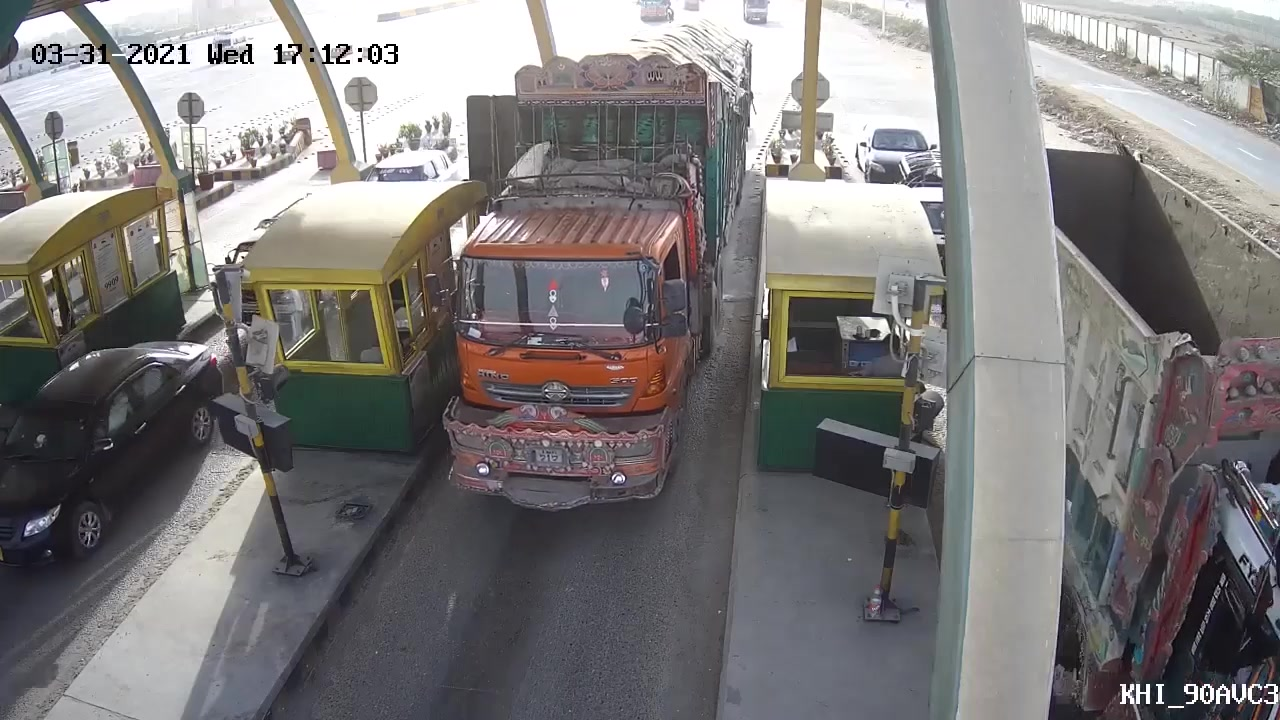F6: (422, 26, 758, 546)
